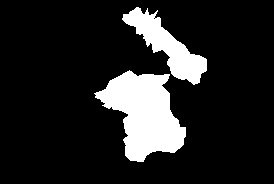Fire: (95, 79, 176, 144), (122, 10, 183, 60)
